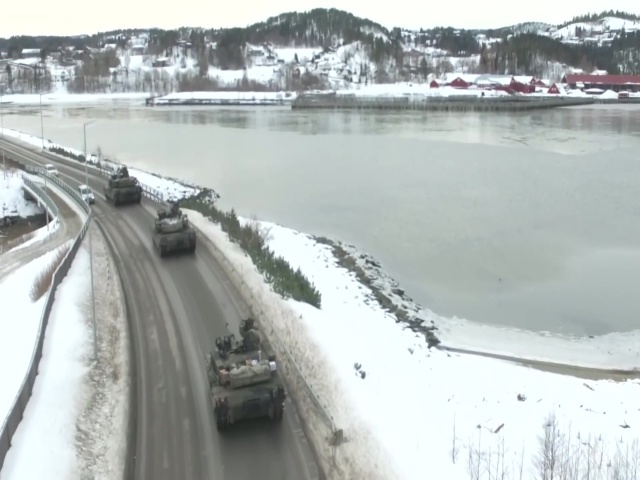vehicle: (204, 332, 290, 428), (150, 207, 198, 258), (105, 165, 144, 207), (78, 184, 95, 204), (43, 161, 60, 177)
